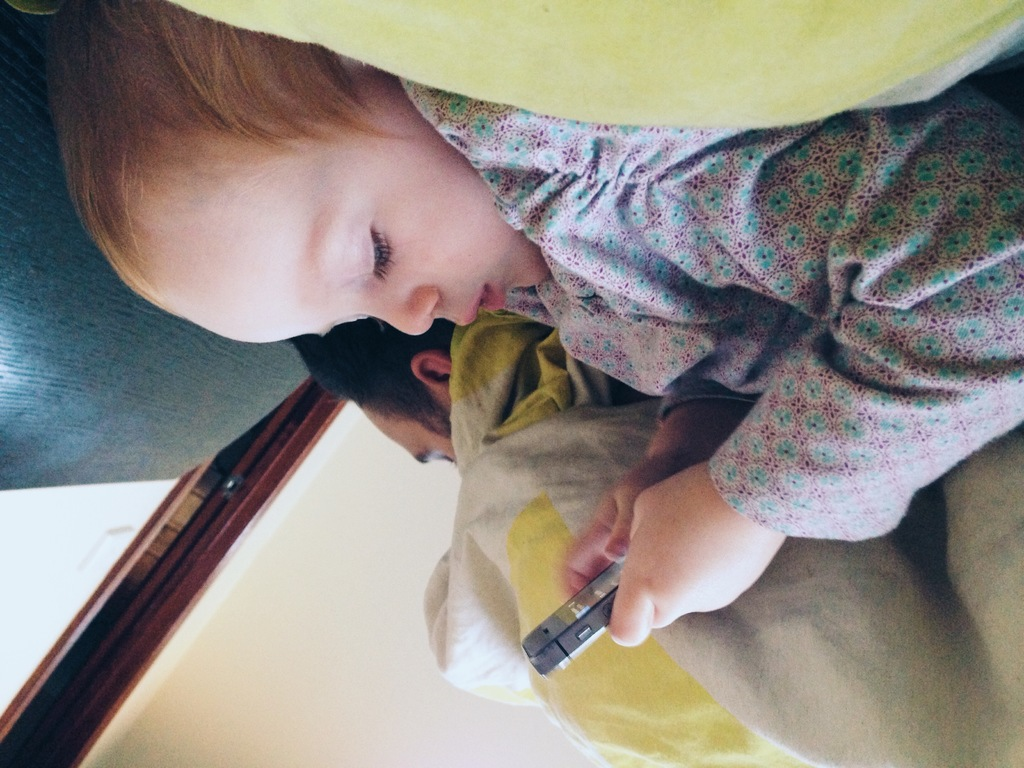Human-face: (158, 87, 552, 346)
